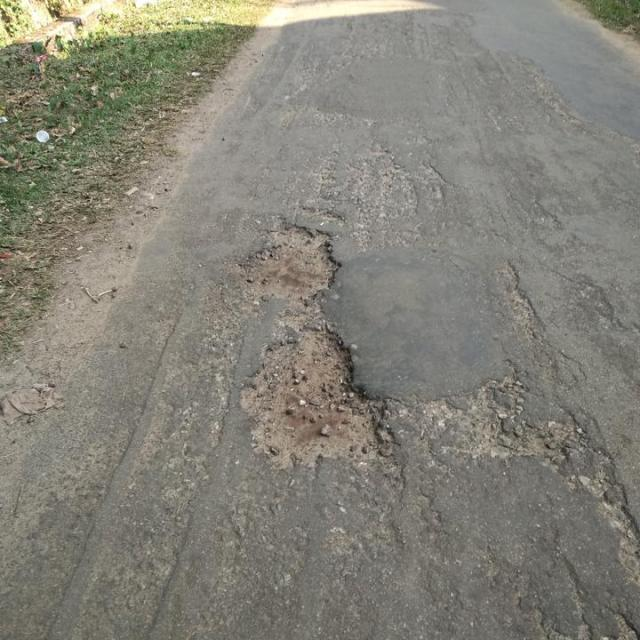pothole: (238, 321, 390, 468), (438, 380, 588, 463), (240, 216, 342, 299)
